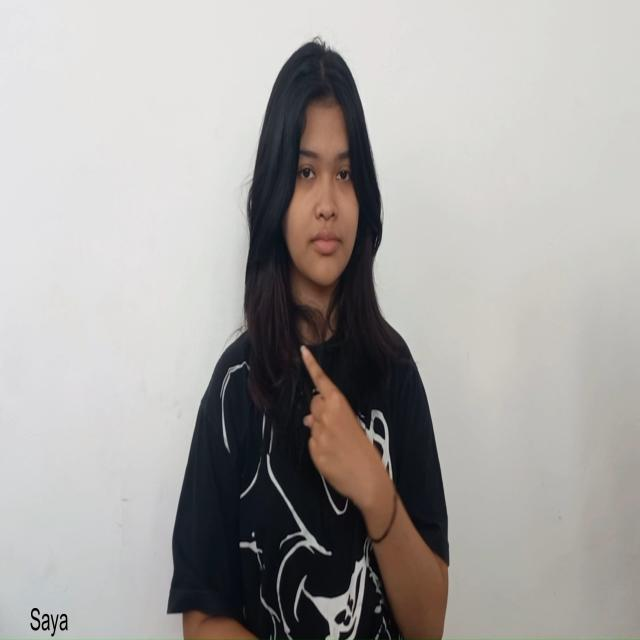Saya -BISINDO-: (297, 336, 399, 532)
